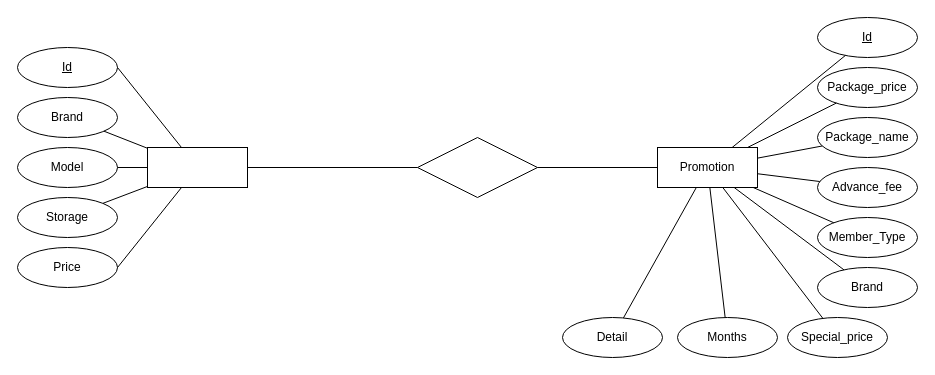
This 935x375 diagram has some shape labels left out. Each missing label, with the centre of its shape:
has: the point at 477,167
Mobile: the point at 197,167
